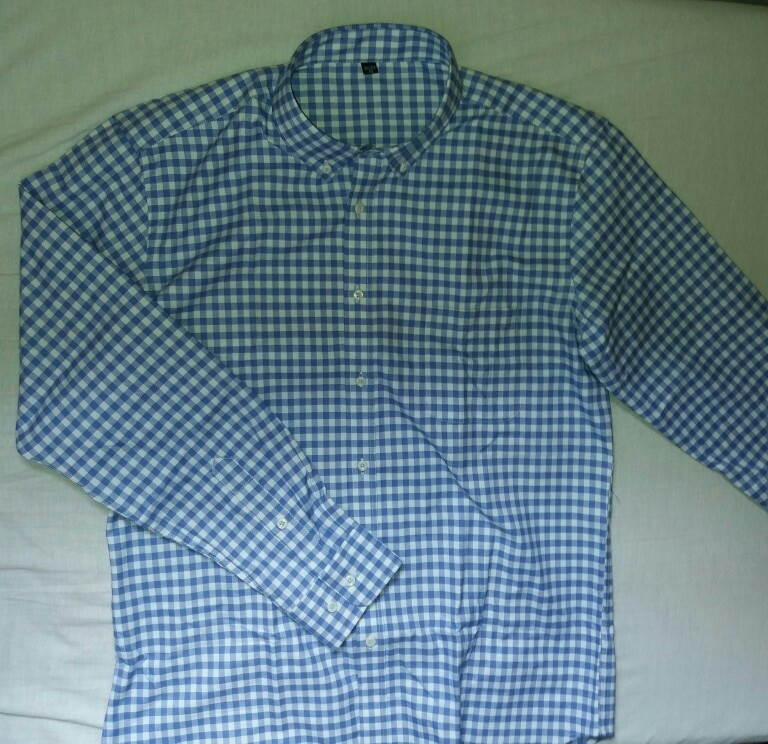shirts: (26, 14, 768, 726)
